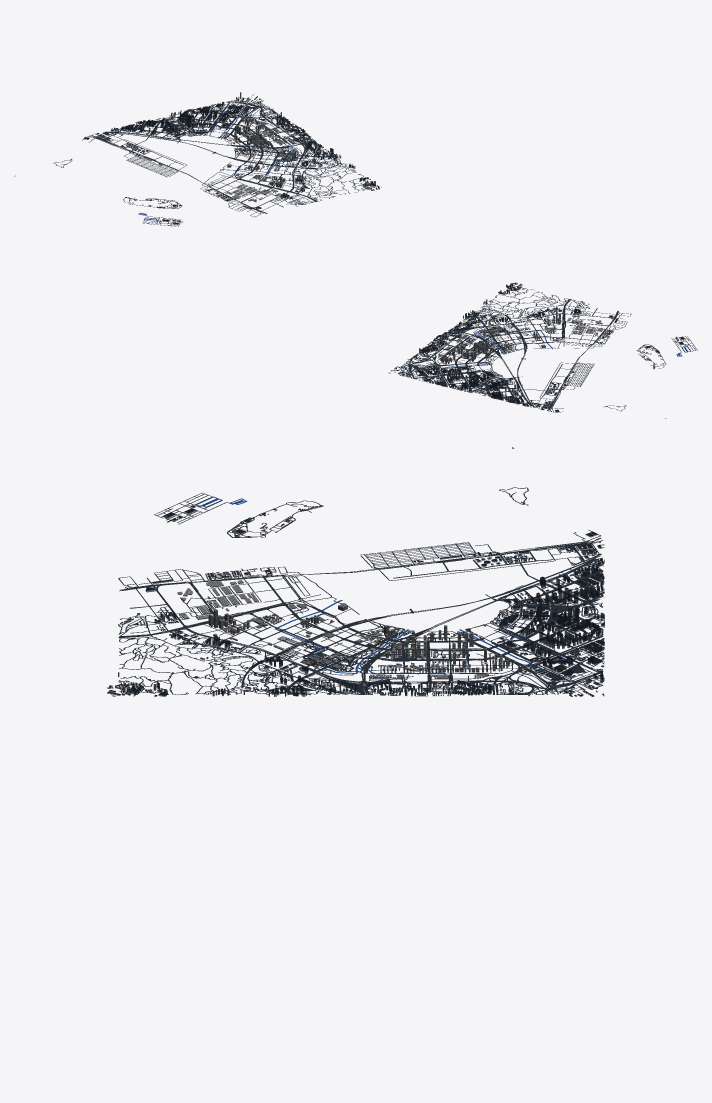
3 views of the same model, one above another, from view 1: azimuth 30°, elevation 25°; view 2: azimuth 150°, elevation 25°; view 3: azimuth 270°, elevation 25° (orthographic). The views are drawn at different scales.
Visible parts, largest first — view 1: Ways:highway, Areas:building, Areas:building.001; view 2: Ways:highway, Areas:building, Areas:building.001, Areas:building.002, Ways:waterway; view 3: Ways:highway, Areas:building, Areas:building.001, Ways:waterway.
Boxes of the visible parts, x1,y1,x2,y2 form: Ways:highway: (14, 97, 376, 226); Areas:building: (70, 92, 381, 224); Areas:building.001: (224, 116, 297, 187); Ways:highway: (396, 285, 697, 418); Areas:building: (389, 282, 686, 412); Areas:building.001: (439, 310, 560, 364); Areas:building.002: (567, 315, 604, 335); Ways:waterway: (413, 314, 690, 395); Ways:highway: (118, 447, 603, 694); Areas:building: (107, 501, 604, 696); Areas:building.001: (208, 603, 510, 678); Ways:waterway: (196, 496, 570, 682).
Size of the model in its own units: 26305 by 332 by 8624.
12 materials, 2 textured.
